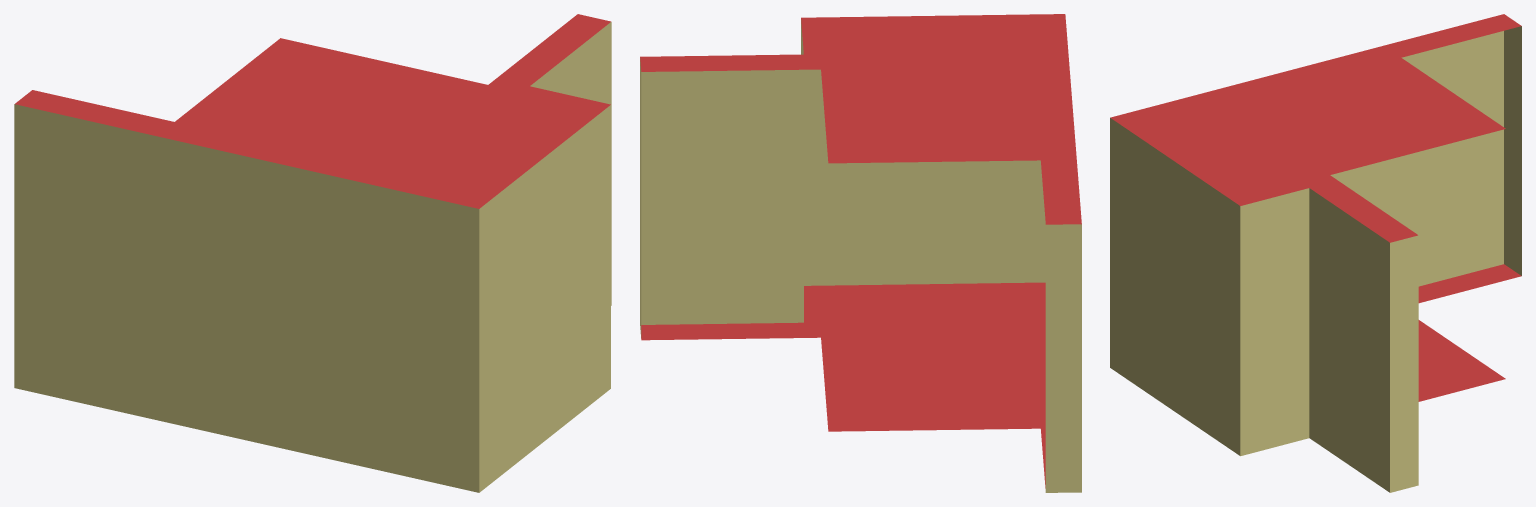
3 renders of one model, left to right at view 1: azimuth 30°, elevation 25°; view 2: azimuth 150°, elevation 25°; view 3: azimuth 270°, elevation 25°, orthographic. The views are drawn at different scales.
Bounding box in the file's own units: 12.06 × 9.17 × 6.15.
